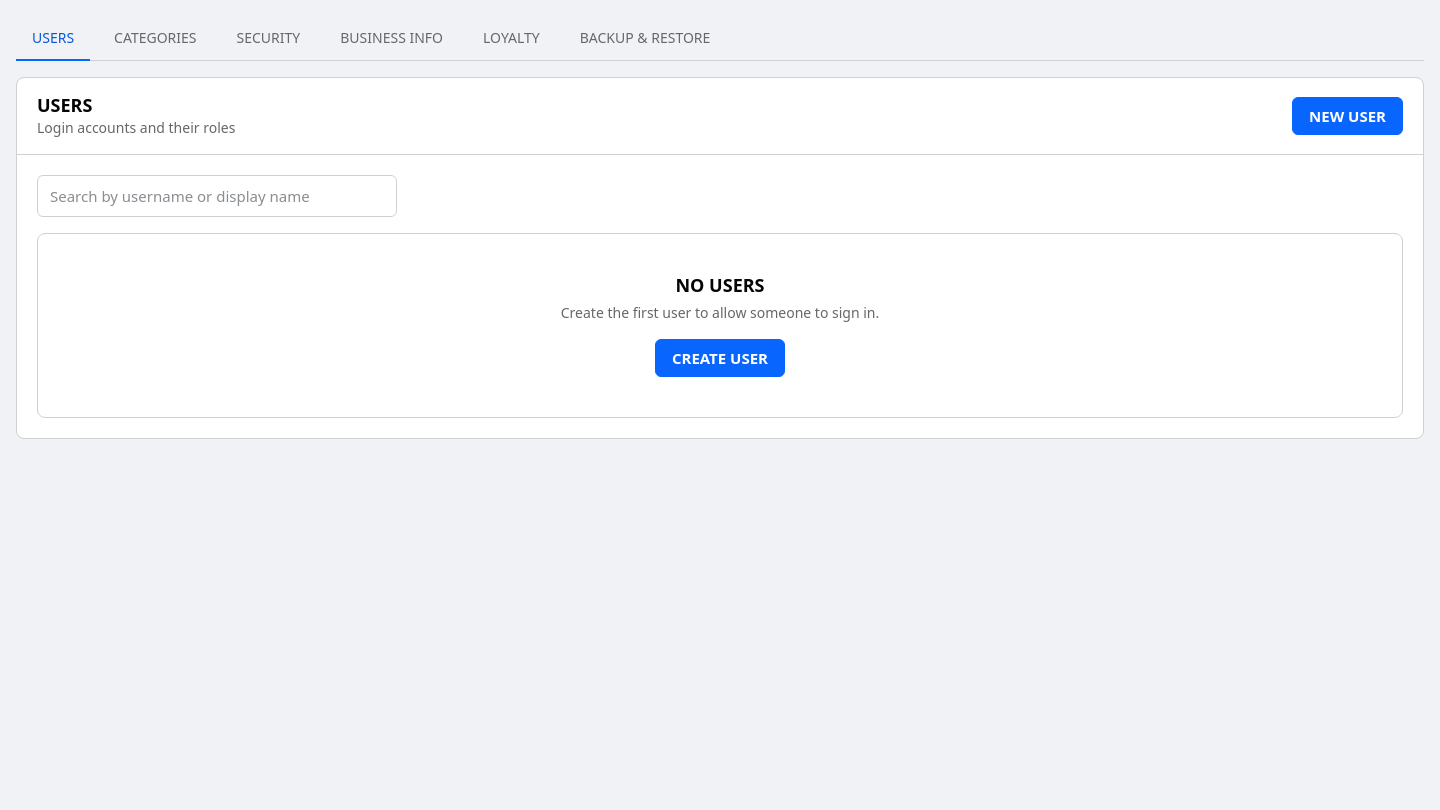
it: SettingsPage › switches to the Business info tab
This screenshot has width=1440, height=810.
Click the tab "Business info" at (392, 38), box [324, 16, 459, 61]
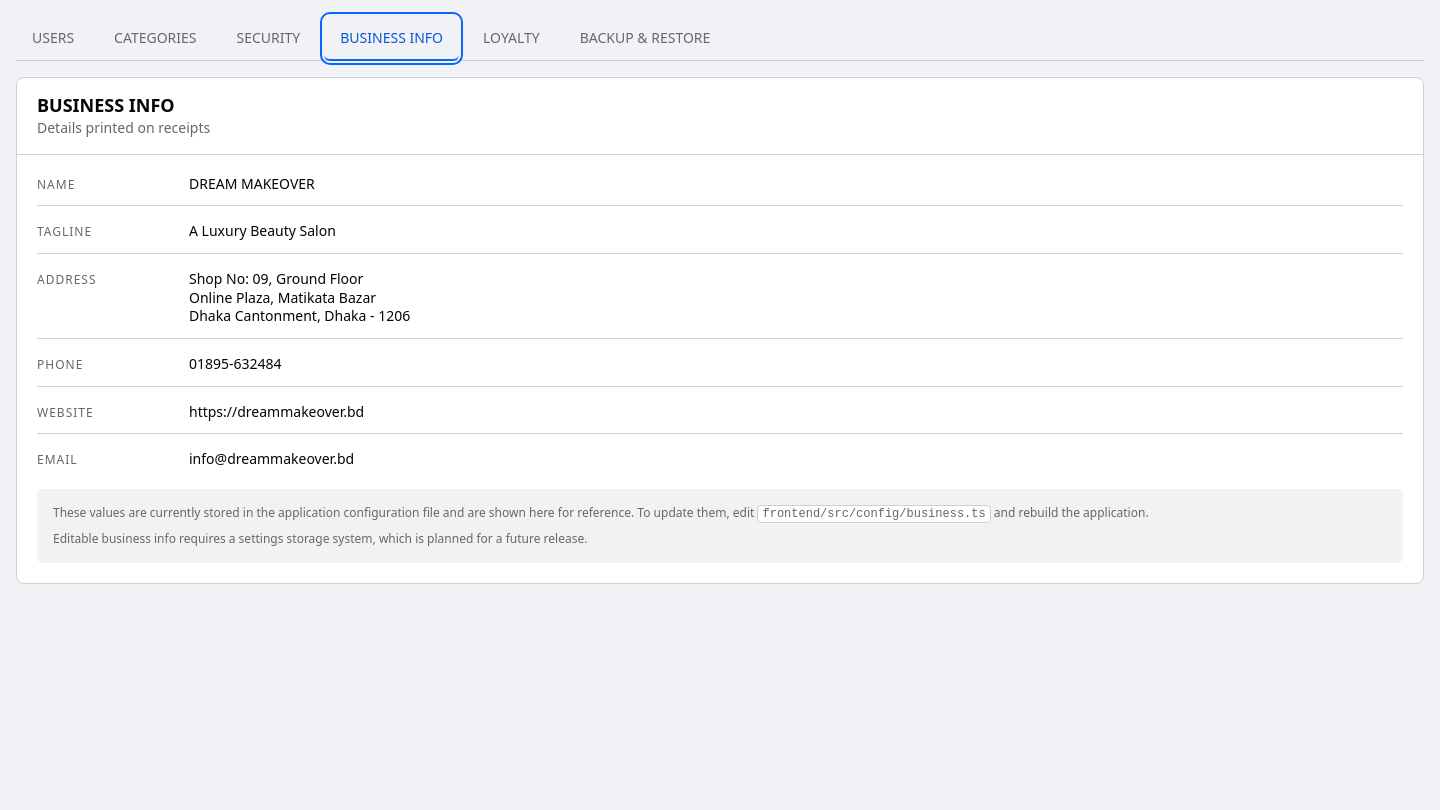
Expected: the text "DREAM MAKEOVER" is shown, [189, 174, 315, 193]
